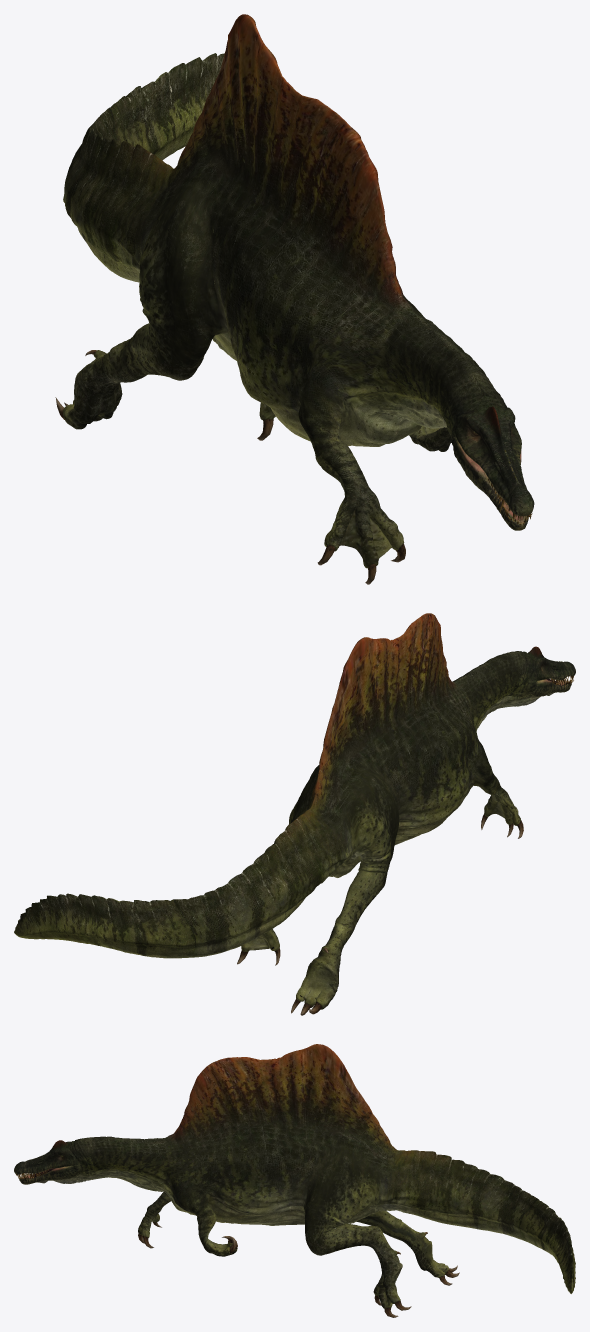
Rendered from spinosaurus.glb.
3 renders of one model, top to bottom at view 1: azimuth 30°, elevation 25°; view 2: azimuth 150°, elevation 25°; view 3: azimuth 270°, elevation 25°, orthographic. The views are drawn at different scales.
Visible parts, largest first — view 1: spinoA_polySurface1_body_0, spinoA_polySurface1_legs_0, spinoA_polySurface1_tails_0, spinoA_polySurface1_head_0, bits1_bits_0; view 2: spinoA_polySurface1_body_0, spinoA_polySurface1_tails_0, spinoA_polySurface1_legs_0, spinoA_polySurface1_head_0, bits1_bits_0; view 3: spinoA_polySurface1_body_0, spinoA_polySurface1_legs_0, spinoA_polySurface1_tails_0, spinoA_polySurface1_head_0, bits1_bits_0.
Part boxes in pixels (bbox=[...]): spinoA_polySurface1_body_0: bbox=[138, 14, 488, 446]; spinoA_polySurface1_legs_0: bbox=[63, 174, 452, 568]; spinoA_polySurface1_tails_0: bbox=[63, 53, 224, 282]; spinoA_polySurface1_head_0: bbox=[441, 370, 534, 530]; bits1_bits_0: bbox=[55, 350, 532, 584]; spinoA_polySurface1_body_0: bbox=[290, 613, 515, 877]; spinoA_polySurface1_tails_0: bbox=[14, 809, 345, 958]; spinoA_polySurface1_legs_0: bbox=[241, 754, 520, 1009]; spinoA_polySurface1_head_0: bbox=[497, 646, 575, 708]; bits1_bits_0: bbox=[237, 675, 573, 1015]; spinoA_polySurface1_body_0: bbox=[93, 1044, 399, 1225]; spinoA_polySurface1_legs_0: bbox=[138, 1139, 448, 1308]; spinoA_polySurface1_tails_0: bbox=[383, 1150, 575, 1293]; spinoA_polySurface1_head_0: bbox=[14, 1137, 108, 1184]; bits1_bits_0: bbox=[16, 1168, 459, 1317].
Bounding box in the file's own units: 3.37 × 4.07 × 8.44.
Materials: 6 (6 with a texture image).
